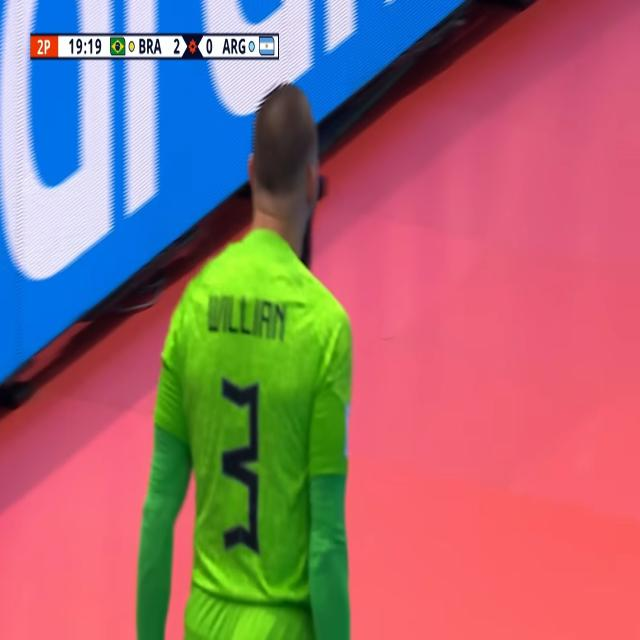Goal-keeper: (138, 80, 346, 640)
